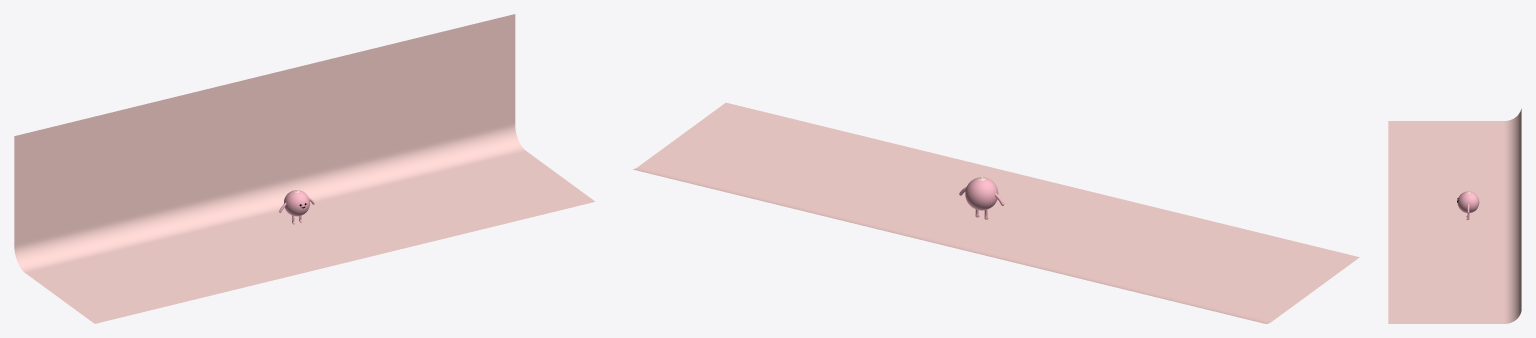
File: character2.gltf
The picture shows the model from 3 angles, left to right: view 1: azimuth 30°, elevation 25°; view 2: azimuth 150°, elevation 25°; view 3: azimuth 270°, elevation 25°; orthographic projection. The views are drawn at different scales.
Parts seen in each view (by area): view 1: Plane, Sphere; view 2: Plane, Sphere; view 3: Plane, Sphere.
Boxes of the visible parts, x1,y1,x2,y2 form: Plane: [14, 14, 595, 323]; Sphere: [284, 190, 309, 216]; Plane: [633, 102, 1359, 323]; Sphere: [965, 177, 998, 210]; Plane: [1388, 108, 1521, 323]; Sphere: [1457, 191, 1479, 212].
Size of the model in its own units: 4378 by 1076 by 1218.
